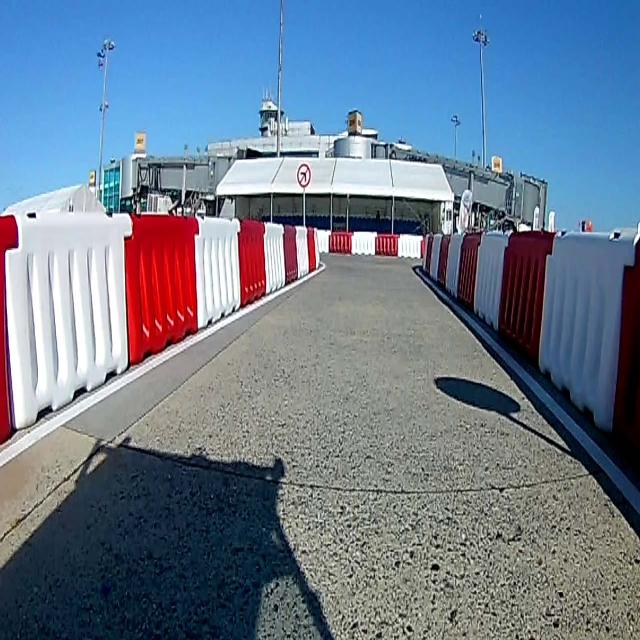soladonulmez: (297, 165, 311, 188)
